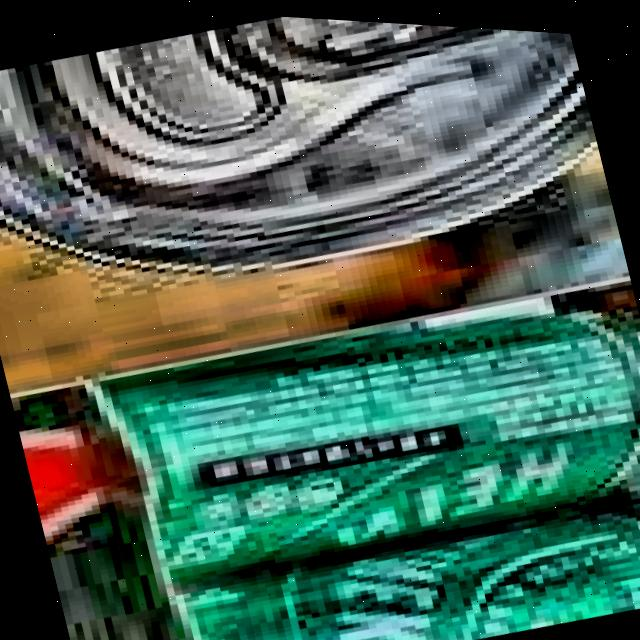metal: (72, 229, 640, 630), (0, 0, 614, 360), (135, 455, 640, 640)
